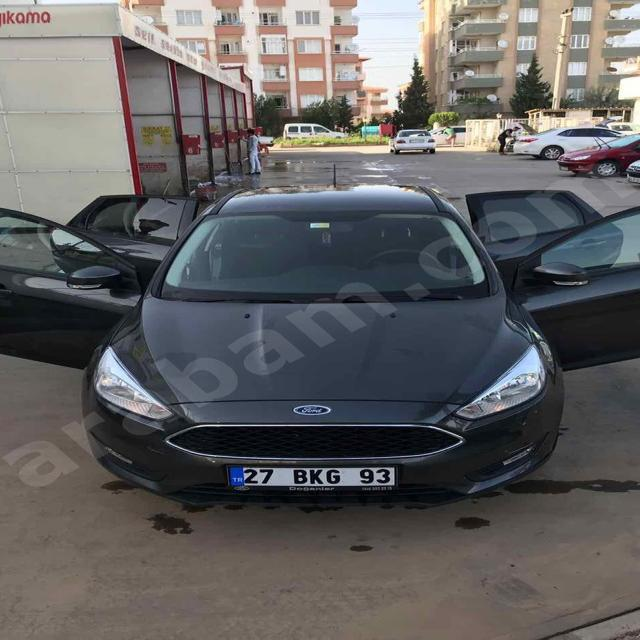license_plate: (228, 466, 398, 486)
